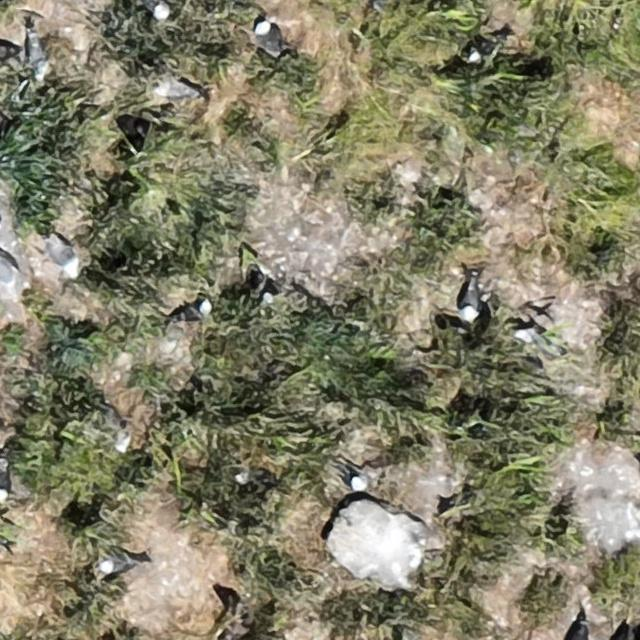umineko: (48, 234, 80, 278), (151, 78, 205, 98), (256, 22, 280, 52), (469, 40, 498, 61), (462, 284, 479, 318), (101, 554, 132, 572), (177, 302, 207, 320), (28, 34, 43, 68), (143, 2, 169, 20), (349, 472, 367, 491), (569, 623, 588, 639), (0, 466, 9, 499)
